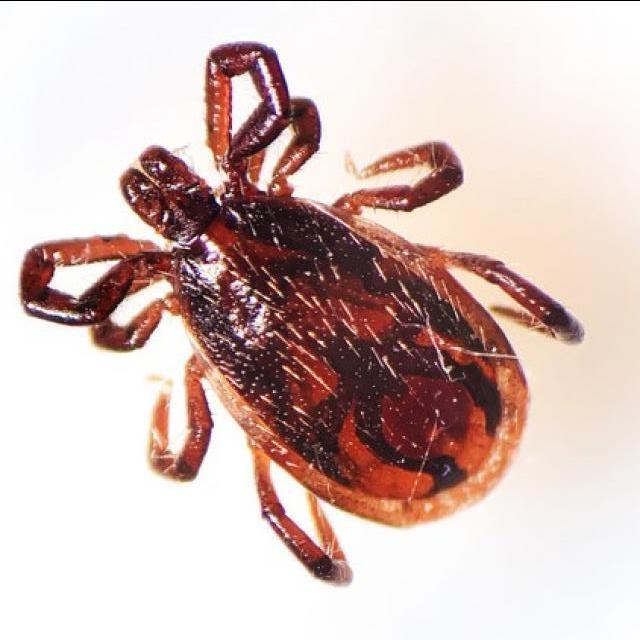Ixodes Ricinus-M: (20, 39, 587, 585)
